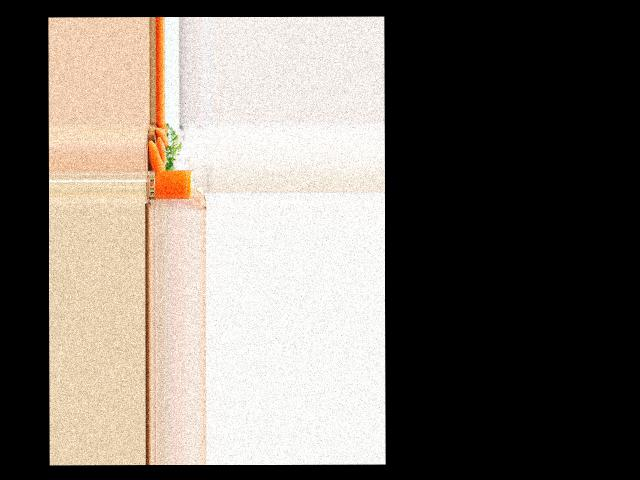carrot: (157, 127, 167, 152)
